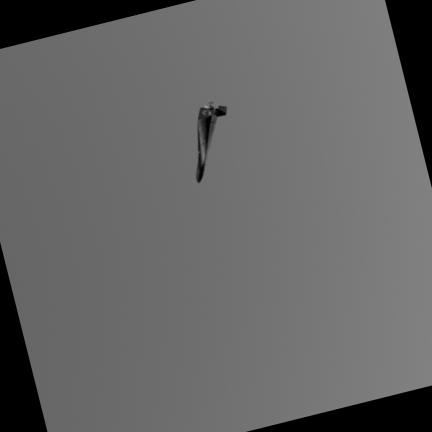Shahed: (195, 102, 226, 181)
